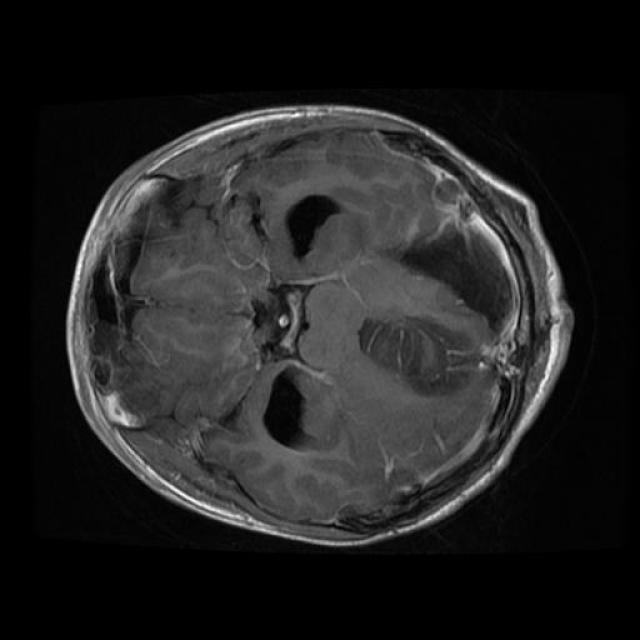Glioma: (393, 226, 512, 333), (359, 316, 489, 395)
